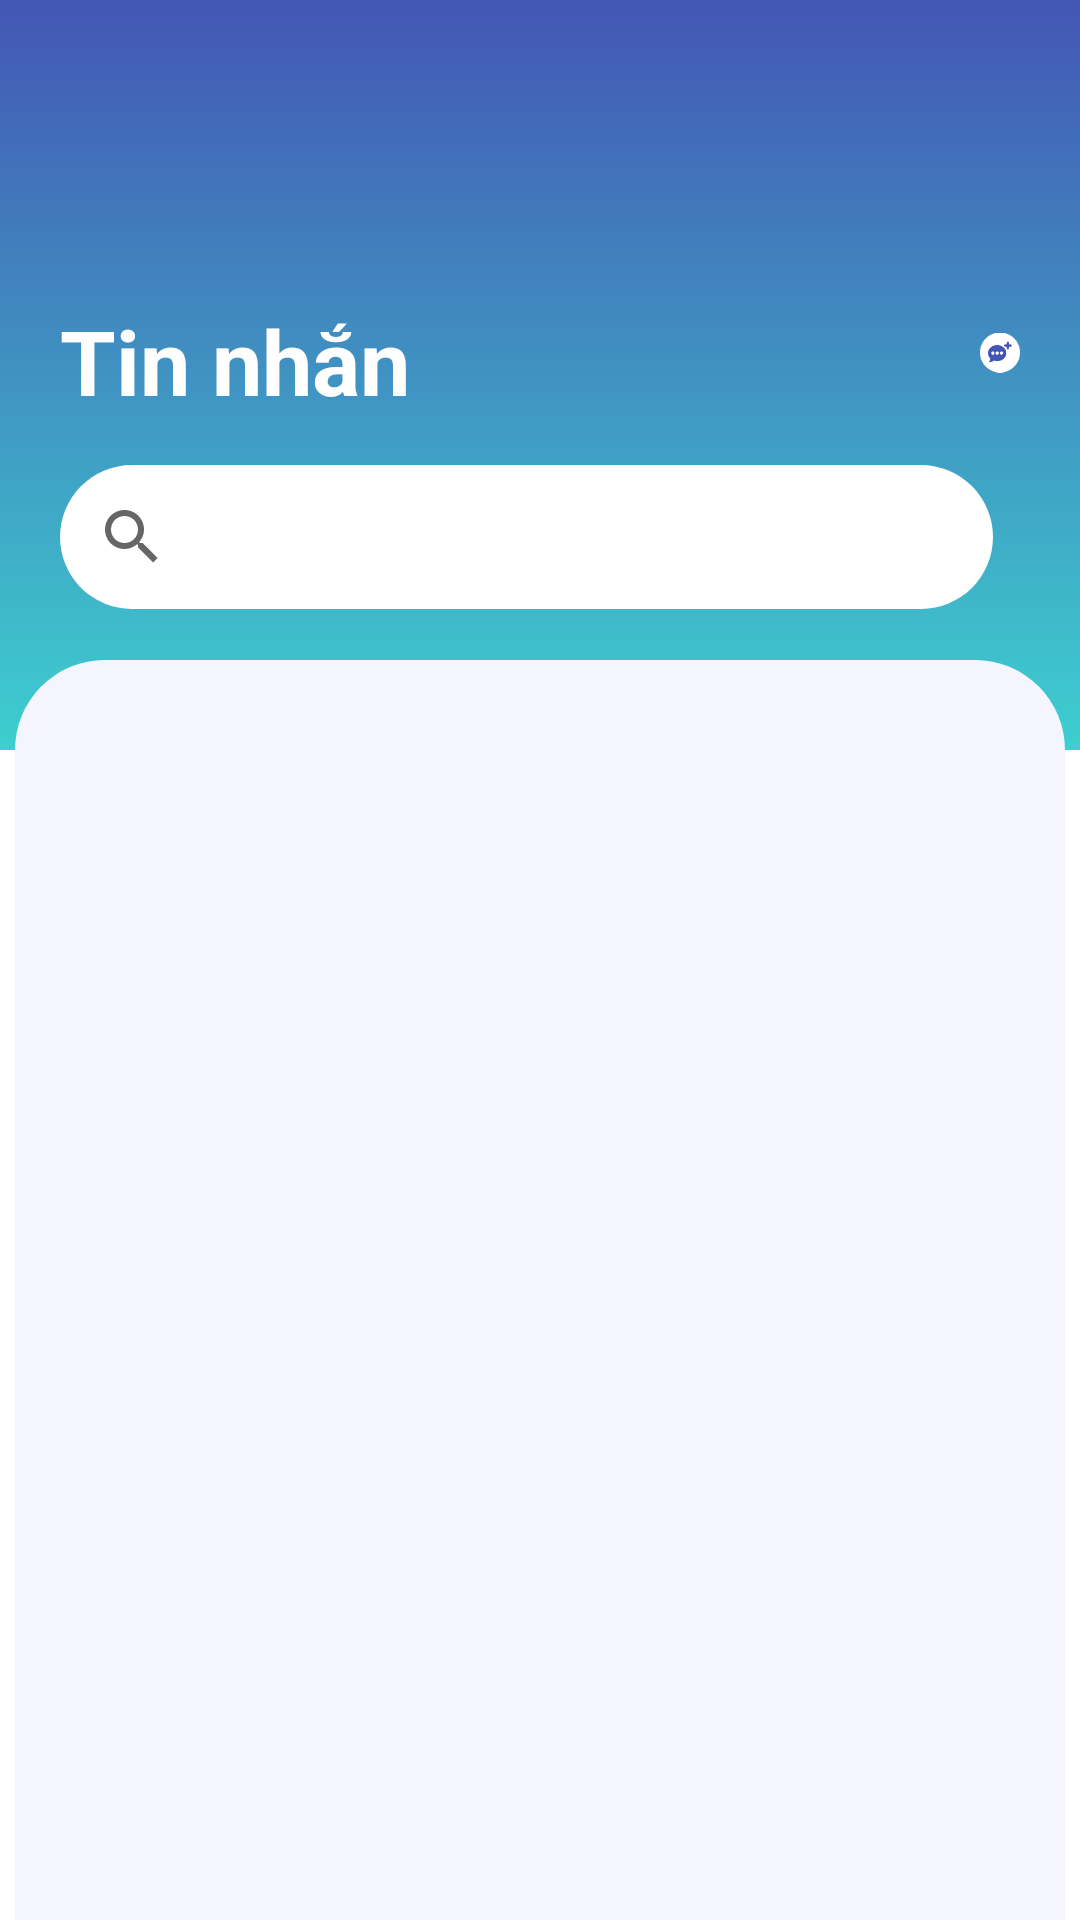

Point at icon controls on the screen. Image size 1080×1920, points as (x,y).
create message: (1000,353)
